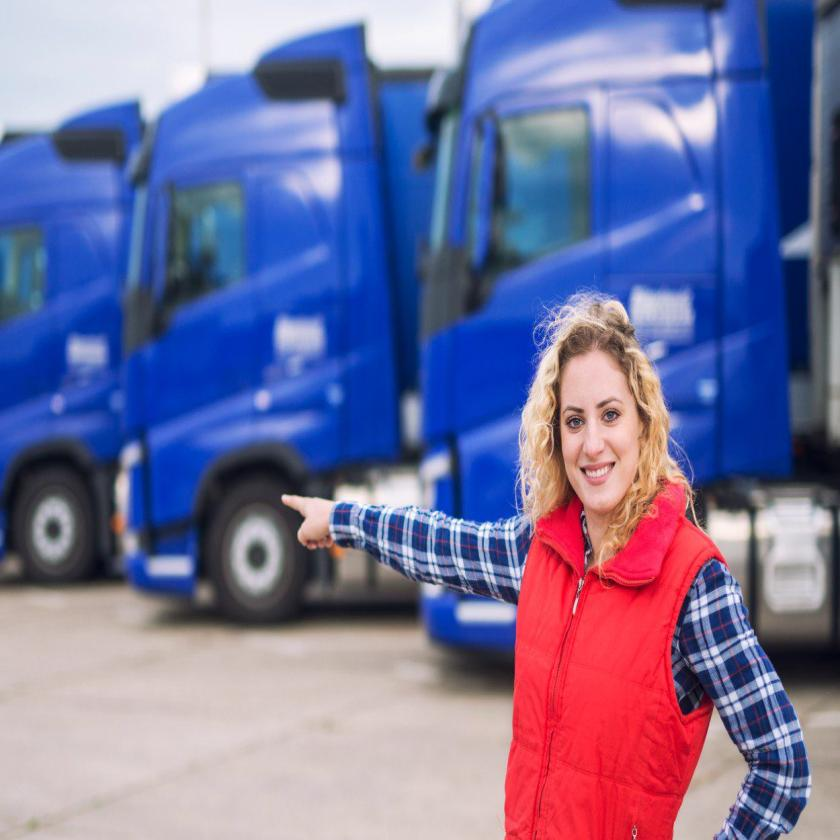Sin_casco: (529, 283, 662, 529)
